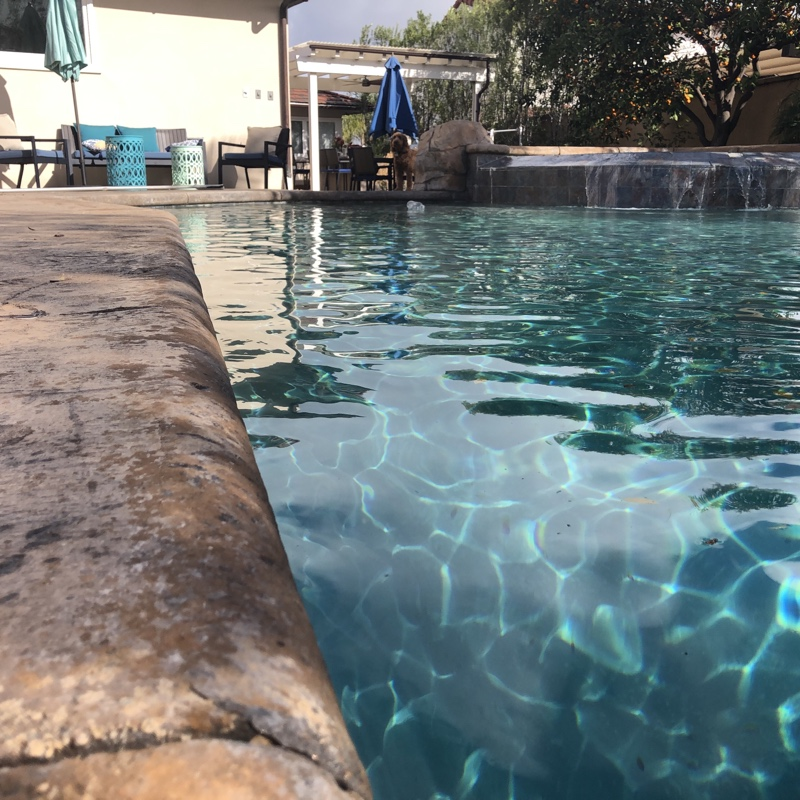Plastic Bottle: (404, 197, 425, 214)
